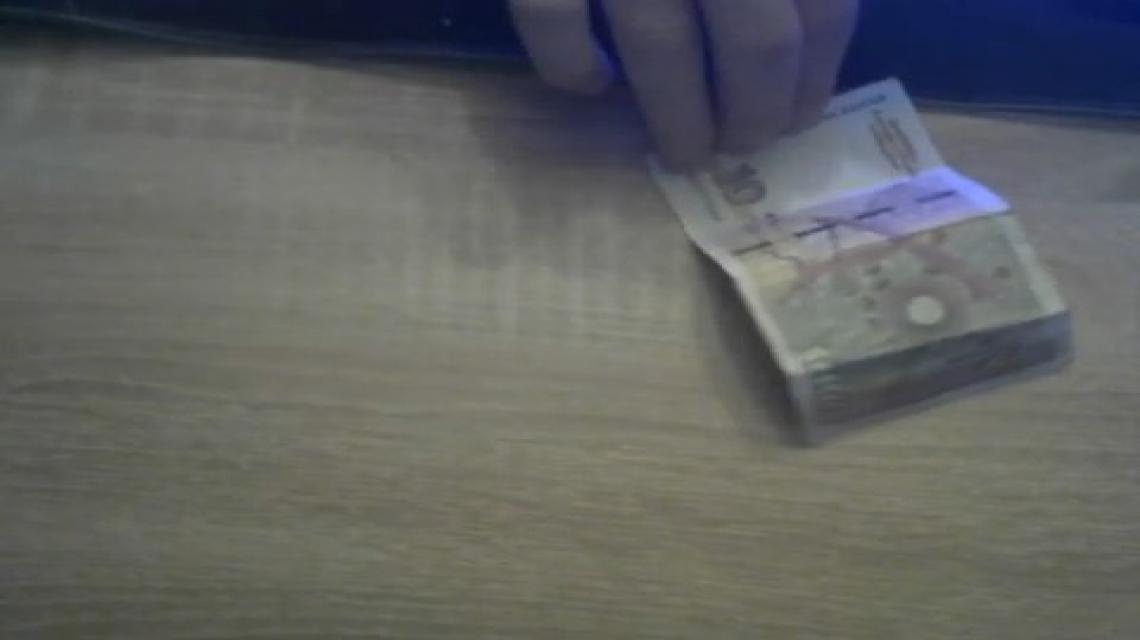10leva: (644, 78, 1076, 450)
